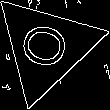O_E: (15, 19, 77, 75)
